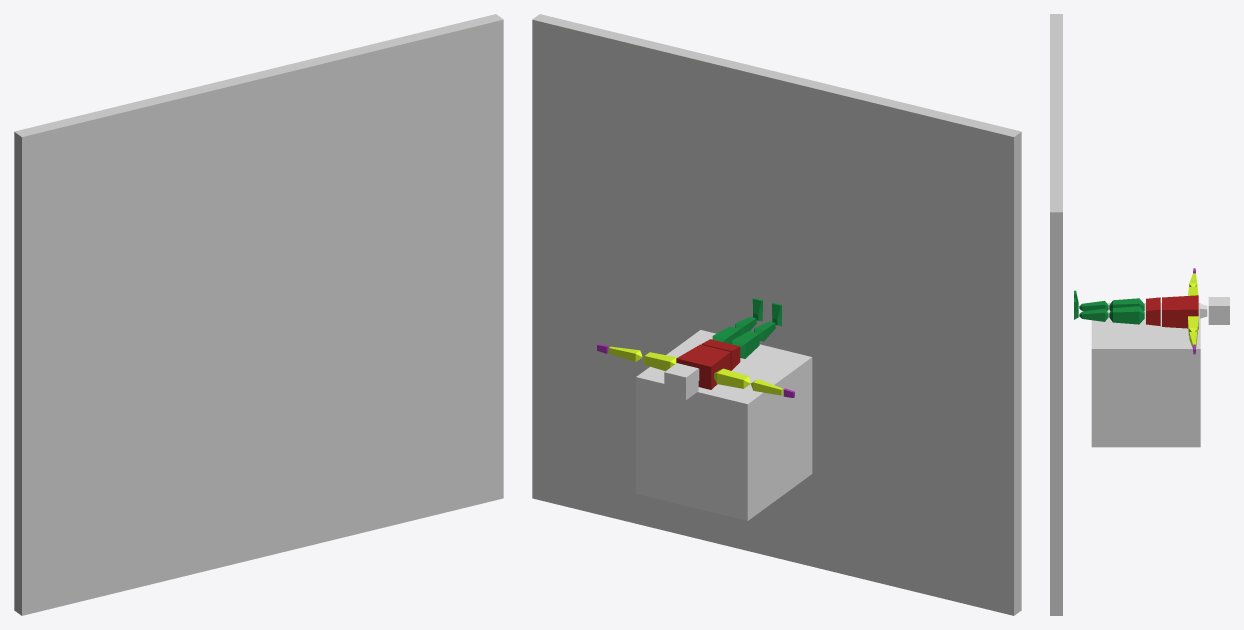
File: arena_with_robot.dae
The picture shows the model from 3 angles, left to right: view 1: azimuth 30°, elevation 25°; view 2: azimuth 150°, elevation 25°; view 3: azimuth 270°, elevation 25°; orthographic projection. The views are drawn at different scales.
Visible parts, largest first — view 1: GroundPlane; view 2: GroundPlane, Cube, Torso, Head; view 3: Cube, GroundPlane, Torso, Head, LeftThigh, Waist, RightThigh, LeftCalve.
Boxes of the visible parts, left/top/right/bottom form: GroundPlane: left=14, top=14, right=503, bottom=615; GroundPlane: left=532, top=14, right=1021, bottom=615; Cube: left=636, top=330, right=812, bottom=520; Torso: left=676, top=344, right=730, bottom=389; Head: left=664, top=363, right=698, bottom=400; Cube: left=1091, top=303, right=1200, bottom=447; GroundPlane: left=1050, top=14, right=1062, bottom=615; Torso: left=1162, top=295, right=1198, bottom=328; Head: left=1208, top=297, right=1229, bottom=324; LeftThigh: left=1109, top=306, right=1144, bottom=324; Waist: left=1146, top=297, right=1160, bottom=326; RightThigh: left=1109, top=298, right=1144, bottom=311; LeftCalve: left=1079, top=308, right=1108, bottom=321.
Size of the model in its own units: 39.12 by 14.99 by 37.14.
